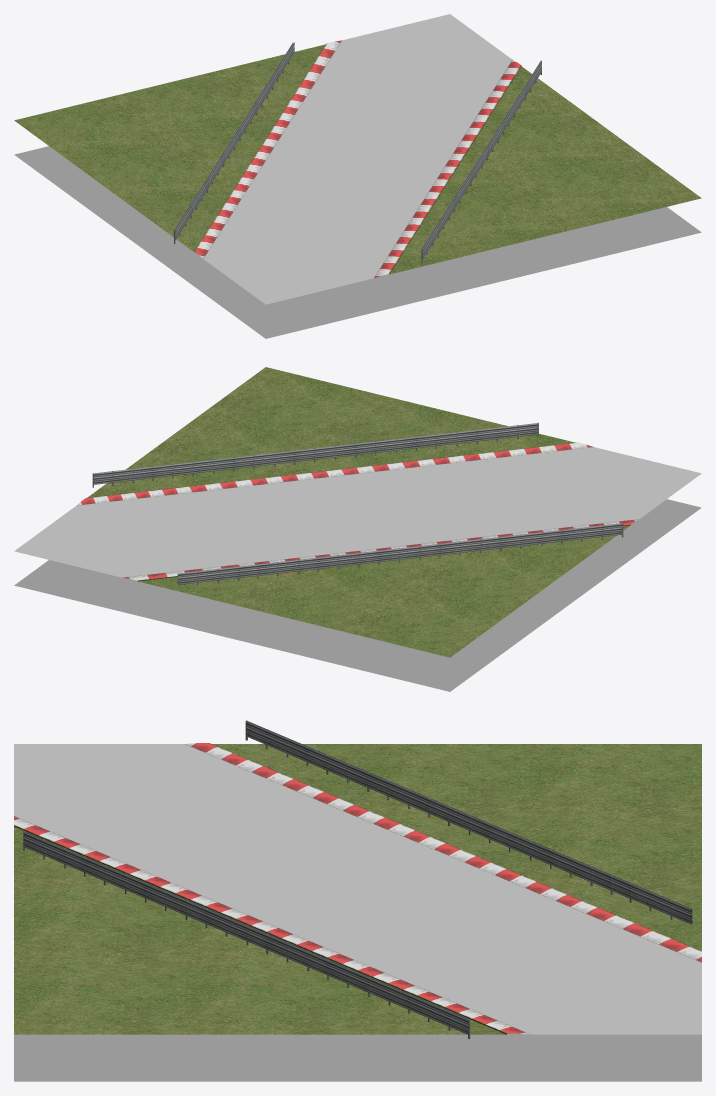
File: Track_Straight_45Degree.fbx
3 renders of one model, top to bottom at view 1: azimuth 30°, elevation 25°; view 2: azimuth 150°, elevation 25°; view 3: azimuth 270°, elevation 25°, orthographic. The views are drawn at different scales.
Parts seen in each view (by area): view 1: Grass, Road, Snap_Plane_Invisible_03, Snap_Plane_Invisible_01, Snap_Plane_Invisible_02, Curb_A, Curb_B, Rail_B, Rail_A; view 2: Grass, Road, Snap_Plane_Invisible_02, Snap_Plane_Invisible_04, Rail_B, Rail_A, Snap_Plane_Invisible_03, Curb_B, Curb_A; view 3: Grass, Road, Snap_Plane_Invisible_04, Snap_Plane_Invisible_01, Rail_B, Rail_A, Curb_A, Curb_B.
Part boxes in pixels (left/top/right/bottom): Grass: left=14, top=44, right=701, bottom=274; Road: left=204, top=14, right=512, bottom=304; Snap_Plane_Invisible_03: left=140, top=238, right=483, bottom=338; Snap_Plane_Invisible_01: left=449, top=207, right=701, bottom=285; Snap_Plane_Invisible_02: left=14, top=146, right=173, bottom=246; Curb_A: left=194, top=40, right=341, bottom=258; Curb_B: left=374, top=59, right=521, bottom=278; Rail_B: left=421, top=60, right=541, bottom=263; Rail_A: left=174, top=42, right=294, bottom=243; Grass: left=87, top=367, right=629, bottom=657; Road: left=14, top=447, right=701, bottom=577; Snap_Plane_Invisible_02: left=232, top=591, right=575, bottom=691; Snap_Plane_Invisible_04: left=14, top=560, right=266, bottom=638; Rail_B: left=92, top=422, right=538, bottom=487; Rail_A: left=177, top=523, right=623, bottom=585; Snap_Plane_Invisible_03: left=541, top=499, right=701, bottom=599; Curb_B: left=77, top=442, right=593, bottom=505; Curb_A: left=123, top=519, right=638, bottom=581; Grass: left=14, top=744, right=701, bottom=1034; Road: left=14, top=744, right=701, bottom=1034; Snap_Plane_Invisible_04: left=358, top=1033, right=701, bottom=1081; Snap_Plane_Invisible_01: left=14, top=1034, right=357, bottom=1081; Rail_B: left=23, top=831, right=470, bottom=1038; Rail_A: left=245, top=720, right=692, bottom=924; Curb_A: left=185, top=743, right=701, bottom=962; Curb_B: left=14, top=816, right=530, bottom=1034.
Size of the model in its own units: 41.2 by 4.24 by 40.
